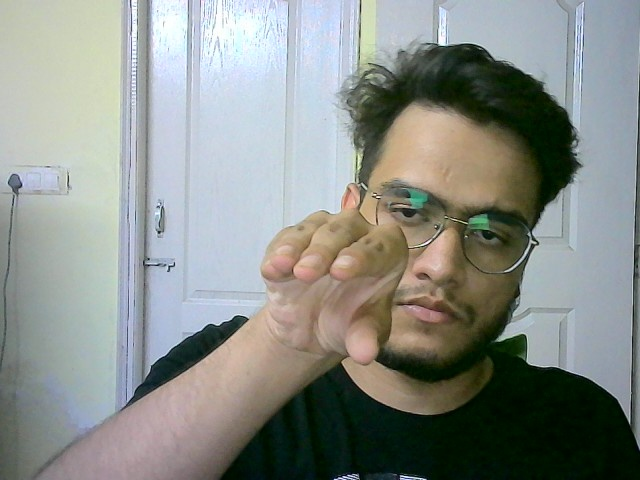No: (241, 205, 412, 369)
